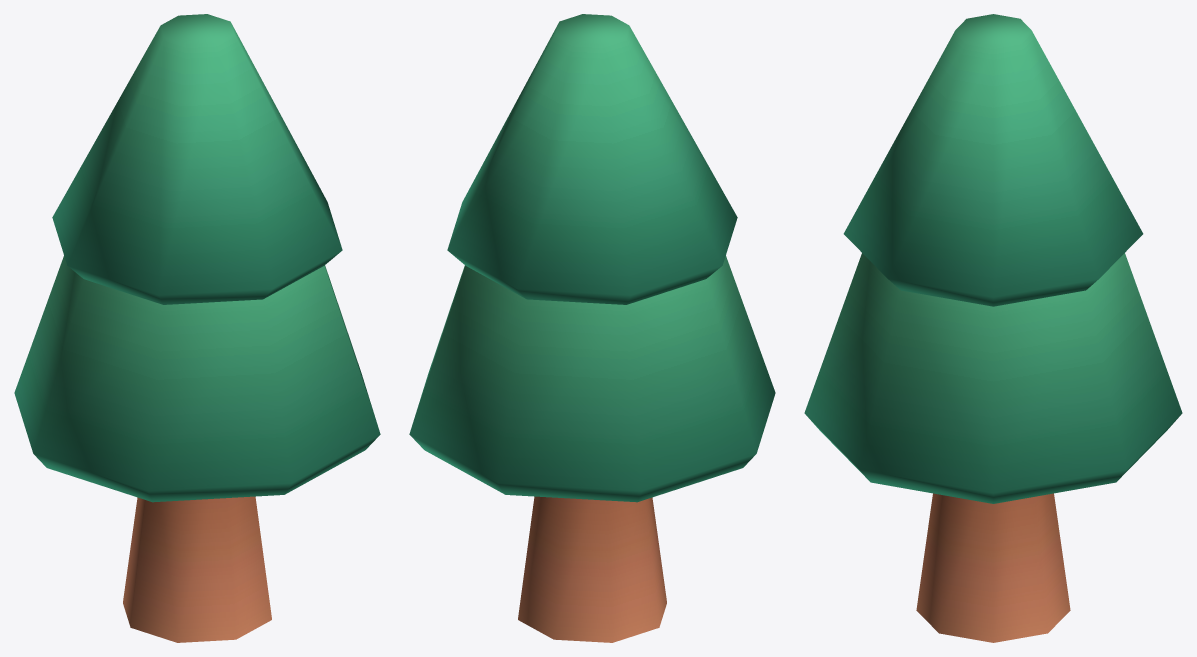
Rendered from kenney-toy-car-tree.glb.
The picture shows the model from 3 angles, left to right: view 1: azimuth 30°, elevation 25°; view 2: azimuth 150°, elevation 25°; view 3: azimuth 270°, elevation 25°; orthographic projection.
Visible parts, largest first — view 1: tree; view 2: tree; view 3: tree.
Part boxes in pixels (bbox=[...]): tree: bbox=[14, 14, 380, 642]; tree: bbox=[409, 14, 775, 642]; tree: bbox=[804, 14, 1182, 642].
Bounding box in the file's own units: 0.4906 × 0.8307 × 0.4906.
Materials: 1 (1 with a texture image).
